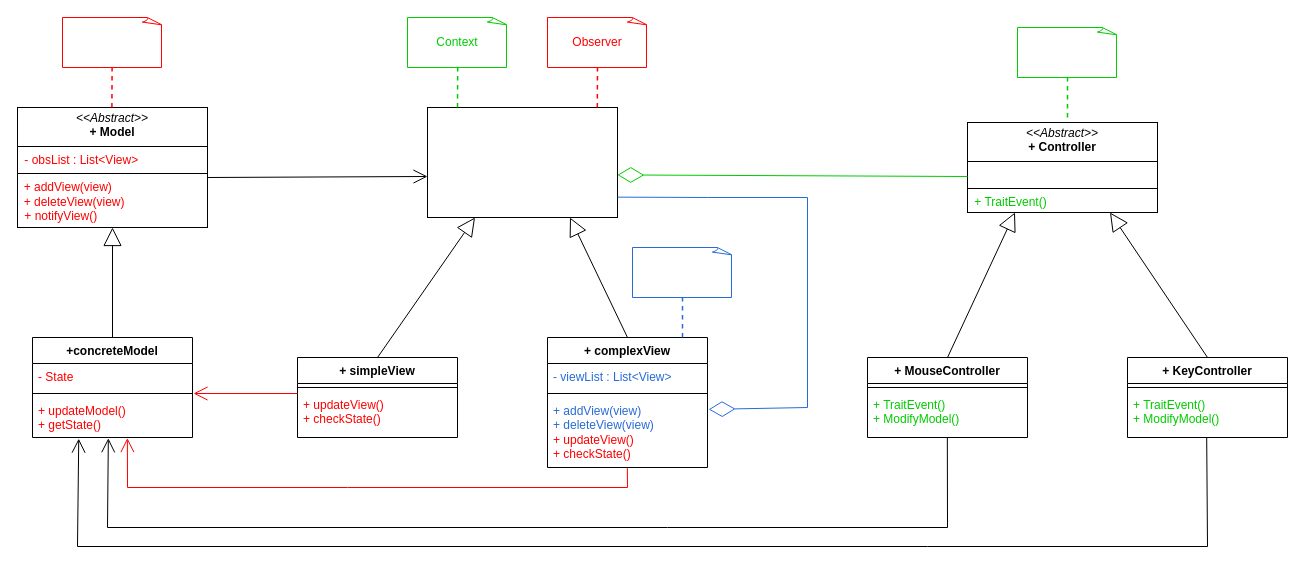
Image size: 1305x578. Some labels were removed from this diagram. The shapes that lost their labels are listed below. From the top down, each one's centre as x and y in pixels, then its label:
At point 112,42: "Subject".
At point 1067,52: "Strategies".
At point 522,162: "<<Abstract>> + View - con : Controller + HandleEvent() + updateView()".
At point 682,272: "Composite".
